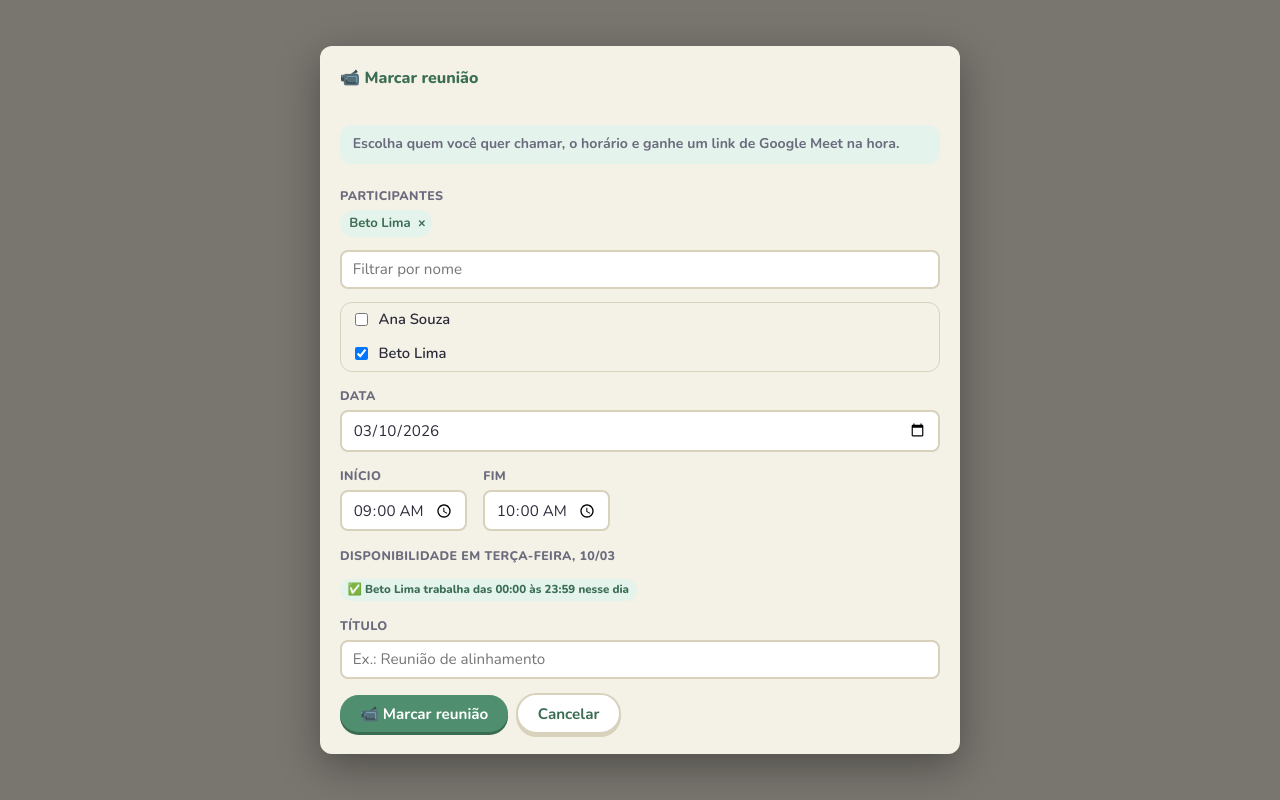
Test: MarcarReuniaoComMeetModal › cria a reunião e mostra o link do Meet com "Entrar no Meet"/"Copiar link"
Check: the checkbox labelled "Beto Lima" is shown, box [355,347,368,360]
Type "Alinhamento" into the field labelled "Título".
click(640, 660); type("Alinhamento")  # box [340,640,940,679]
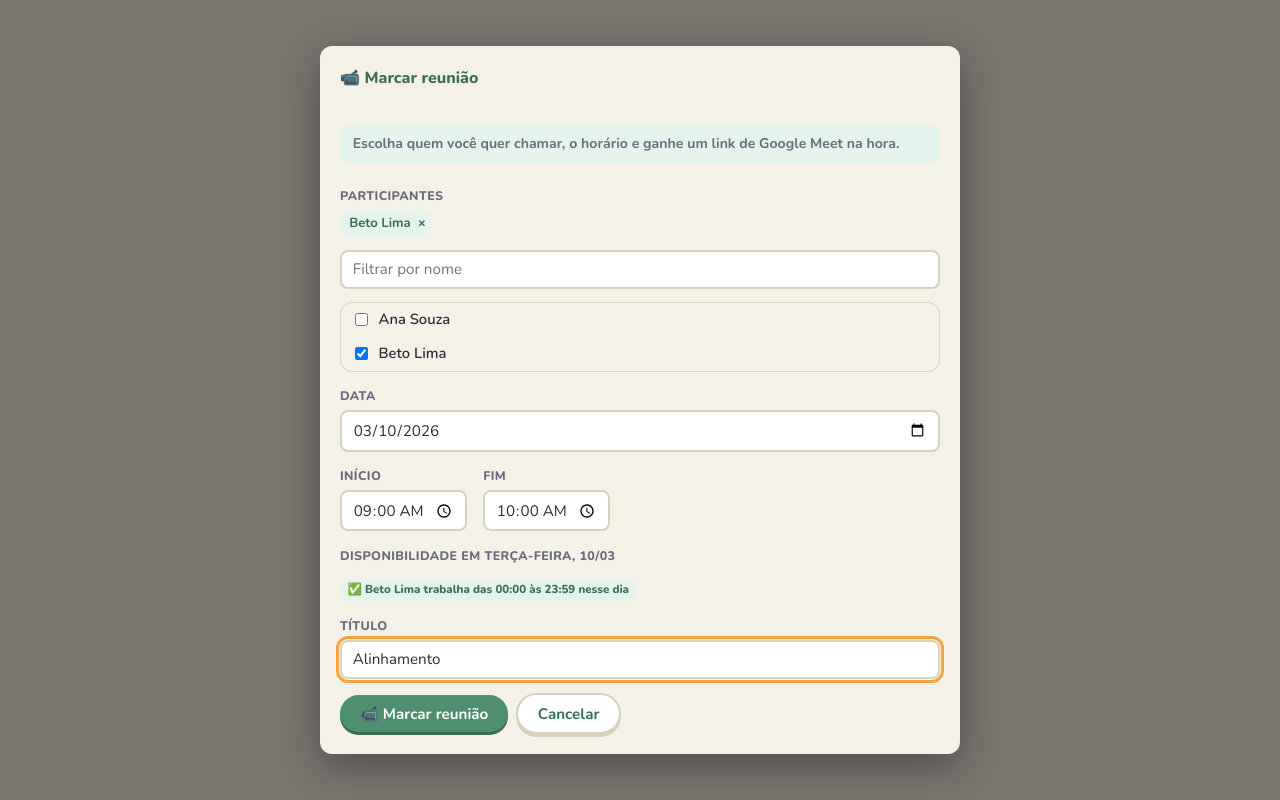
Click the button "📹 Marcar reunião".
click(424, 714)  # box [340,696,508,732]
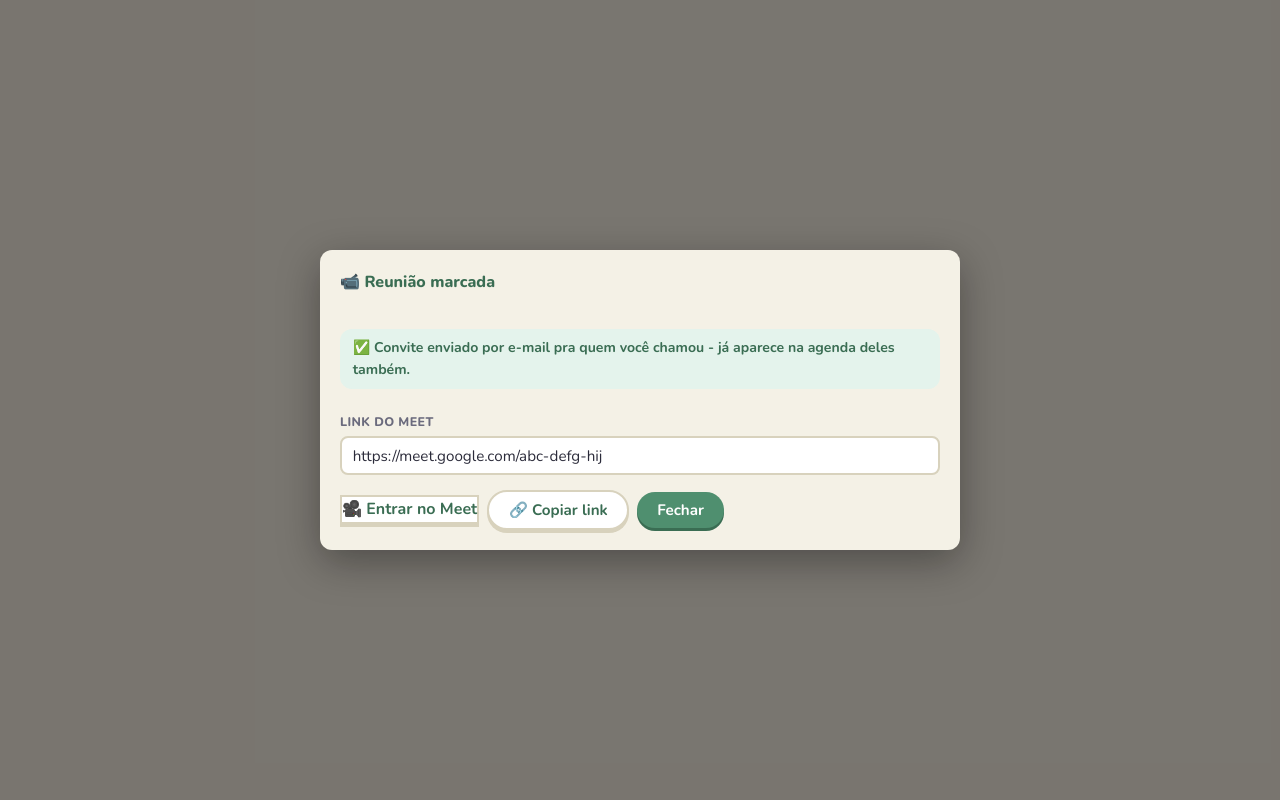
Check: the button "🔗 Copiar link" is shown, box [487,490,629,530]
